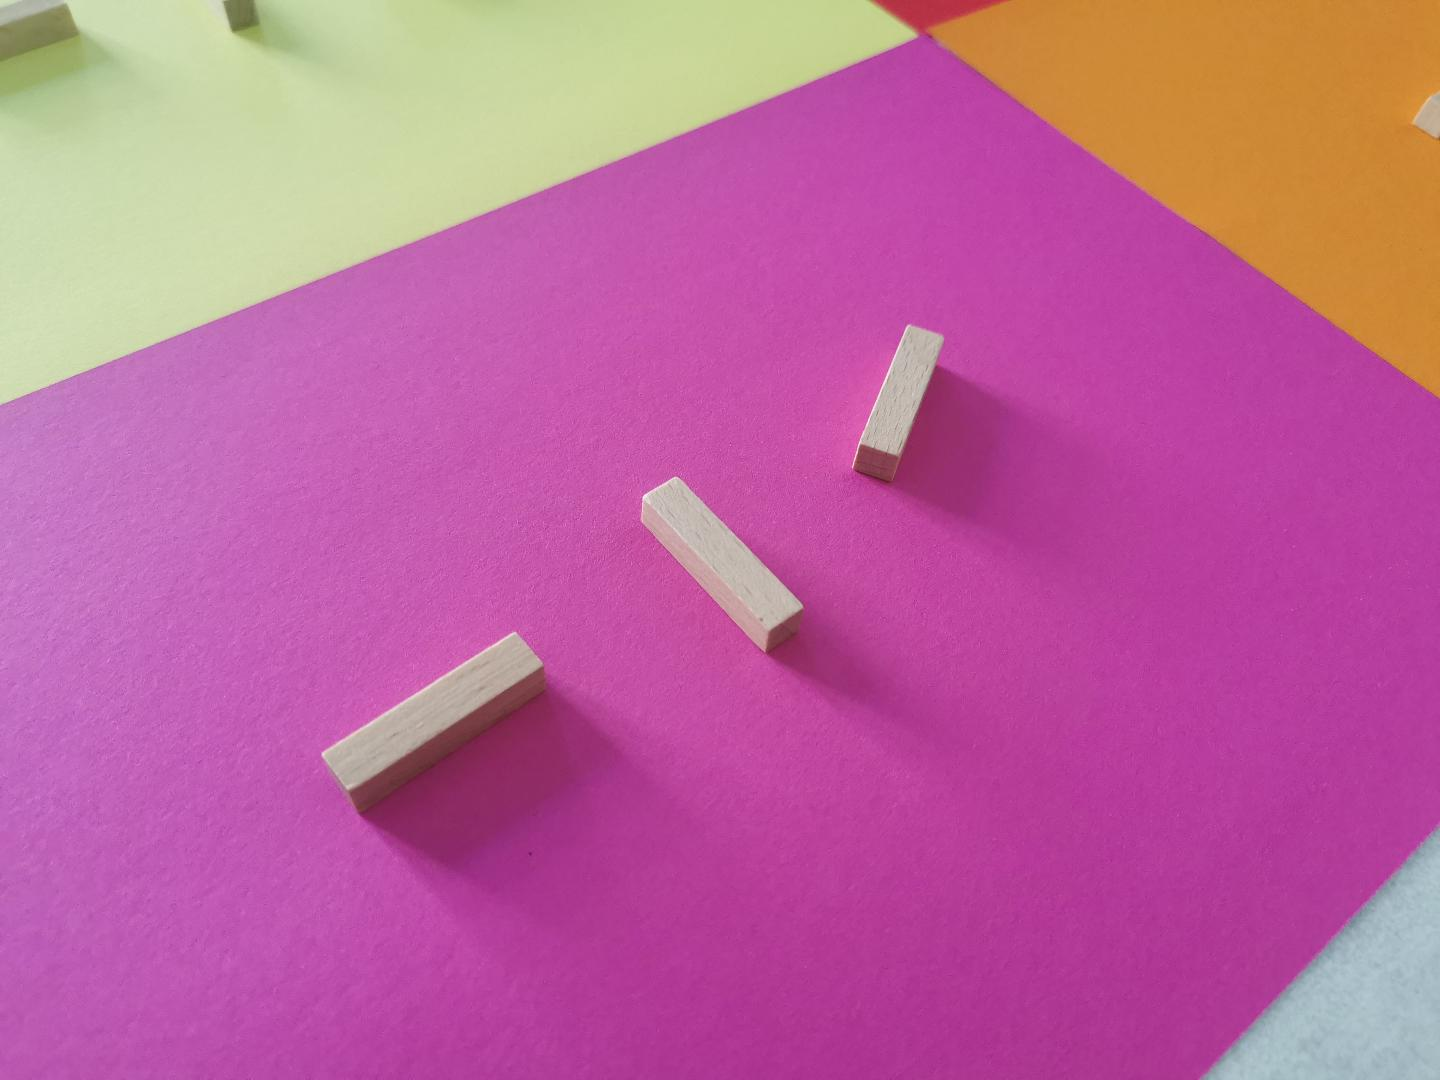jenga: (323, 633, 545, 812), (642, 478, 802, 650), (853, 327, 945, 481)
